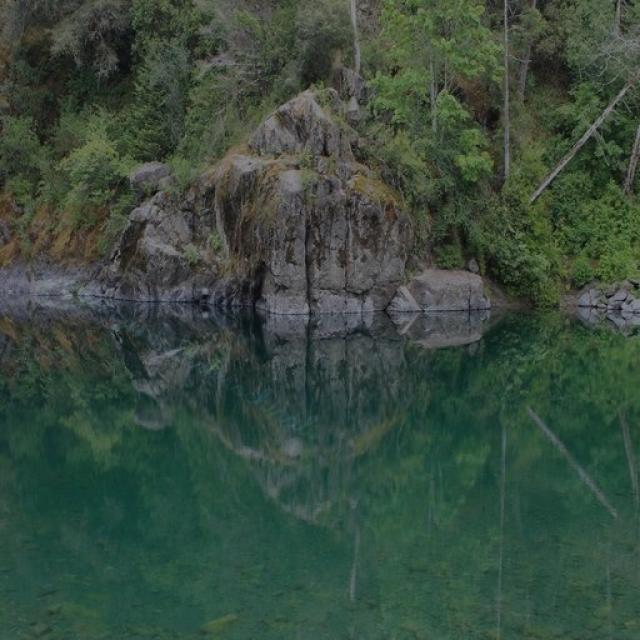watermark: (26, 249, 328, 442)
